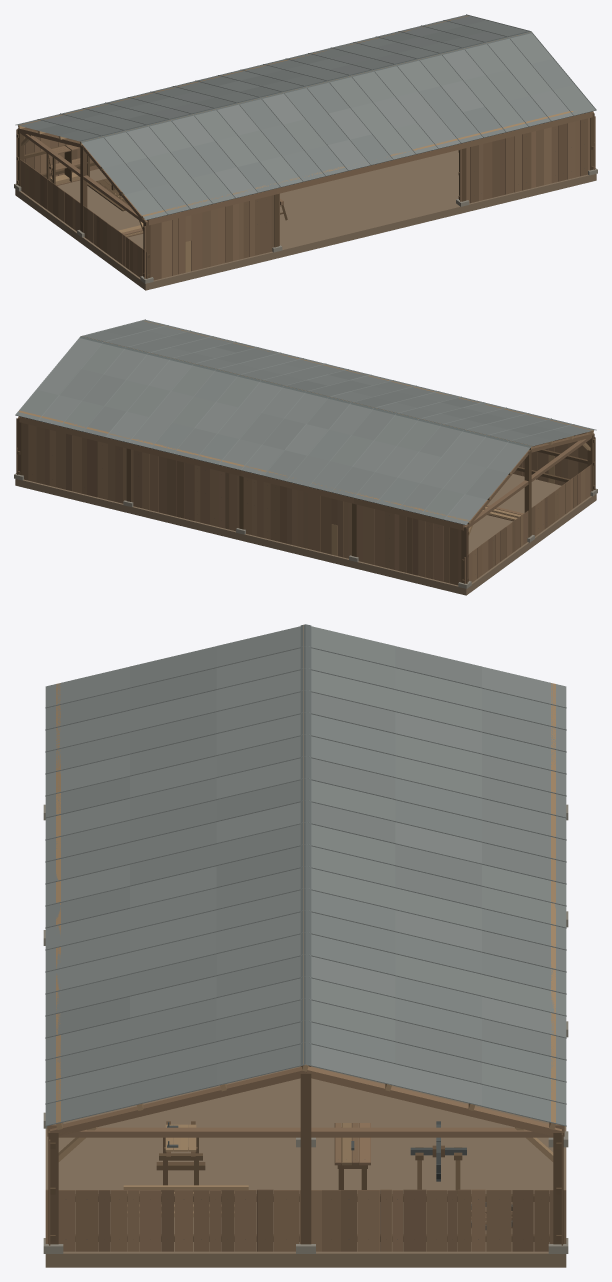
File: bld_07.glb
3 renders of one model, top to bottom at view 1: azimuth 30°, elevation 25°; view 2: azimuth 150°, elevation 25°; view 3: azimuth 270°, elevation 25°, orthographic. The views are drawn at different scales.
Visible parts, largest first — view 1: shell__detail_vertex_roof, shell__detail_vertex_wood, shell__detail_vertex_soil, shell__detail_vertex_roof_edge, new_short_stock_rack__detail_vertex_wood; view 2: shell__detail_vertex_roof, shell__detail_vertex_wood, shell__detail_vertex_soil, shell__detail_vertex_roof_edge, shell__detail_vertex_stone; view 3: shell__detail_vertex_roof, shell__detail_vertex_wood, shell__detail_vertex_soil, shell__detail_vertex_roof_edge, new_holding_frame__detail_vertex_wood, wheel_bench__detail_vertex_wood, shell__detail_vertex_stone.
Boxes of the visible parts, <box> form: shell__detail_vertex_roof: <box>15,14,596,219</box>; shell__detail_vertex_wood: <box>16,15,595,280</box>; shell__detail_vertex_soil: <box>15,150,596,290</box>; shell__detail_vertex_roof_edge: <box>15,31,596,220</box>; new_short_stock_rack__detail_vertex_wood: <box>46,145,89,185</box>; shell__detail_vertex_roof: <box>15,319,596,524</box>; shell__detail_vertex_wood: <box>16,320,595,585</box>; shell__detail_vertex_soil: <box>15,474,596,595</box>; shell__detail_vertex_roof_edge: <box>15,336,596,525</box>; shell__detail_vertex_stone: <box>14,473,597,588</box>; shell__detail_vertex_roof: <box>45,626,566,1126</box>; shell__detail_vertex_wood: <box>45,625,566,1251</box>; shell__detail_vertex_soil: <box>45,1066,566,1267</box>; shell__detail_vertex_roof_edge: <box>300,624,311,1064</box>; new_holding_frame__detail_vertex_wood: <box>156,1121,205,1191</box>; wheel_bench__detail_vertex_wood: <box>334,1123,370,1189</box>; shell__detail_vertex_stone: <box>43,804,568,1253</box>.
Size of the model in its own units: 20.08 by 4.31 by 10.08.
